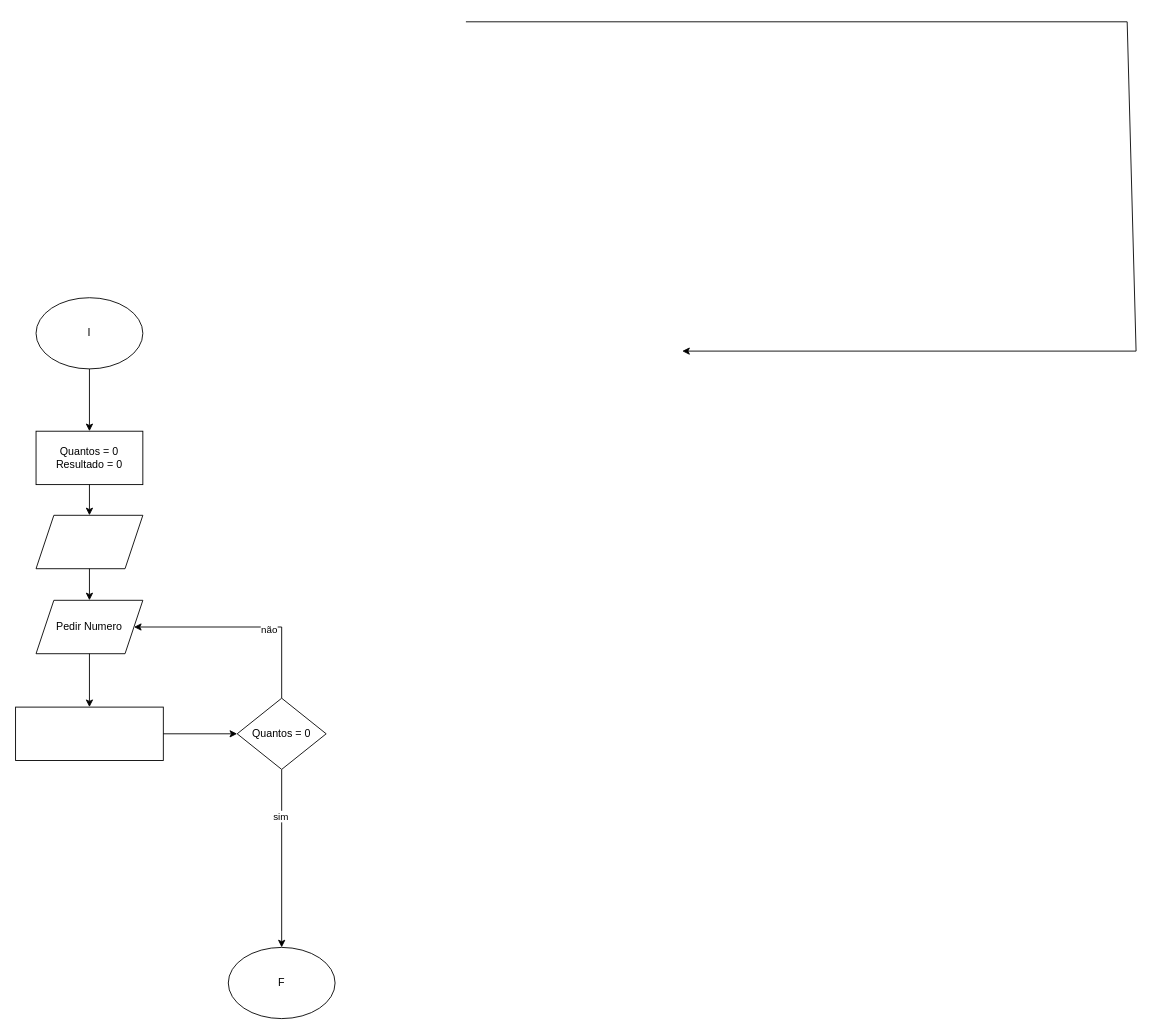
The diagram is 1159 pixels wide and 1034 high, and some of its shapes have lost their labels. Here are the shapes that lost their labels. From the top down, the box of each, then its label:
(35, 514, 143, 569): Pedir Quantos
(15, 706, 163, 761): Resultado = soma+num Quantos = QuantosN-1
